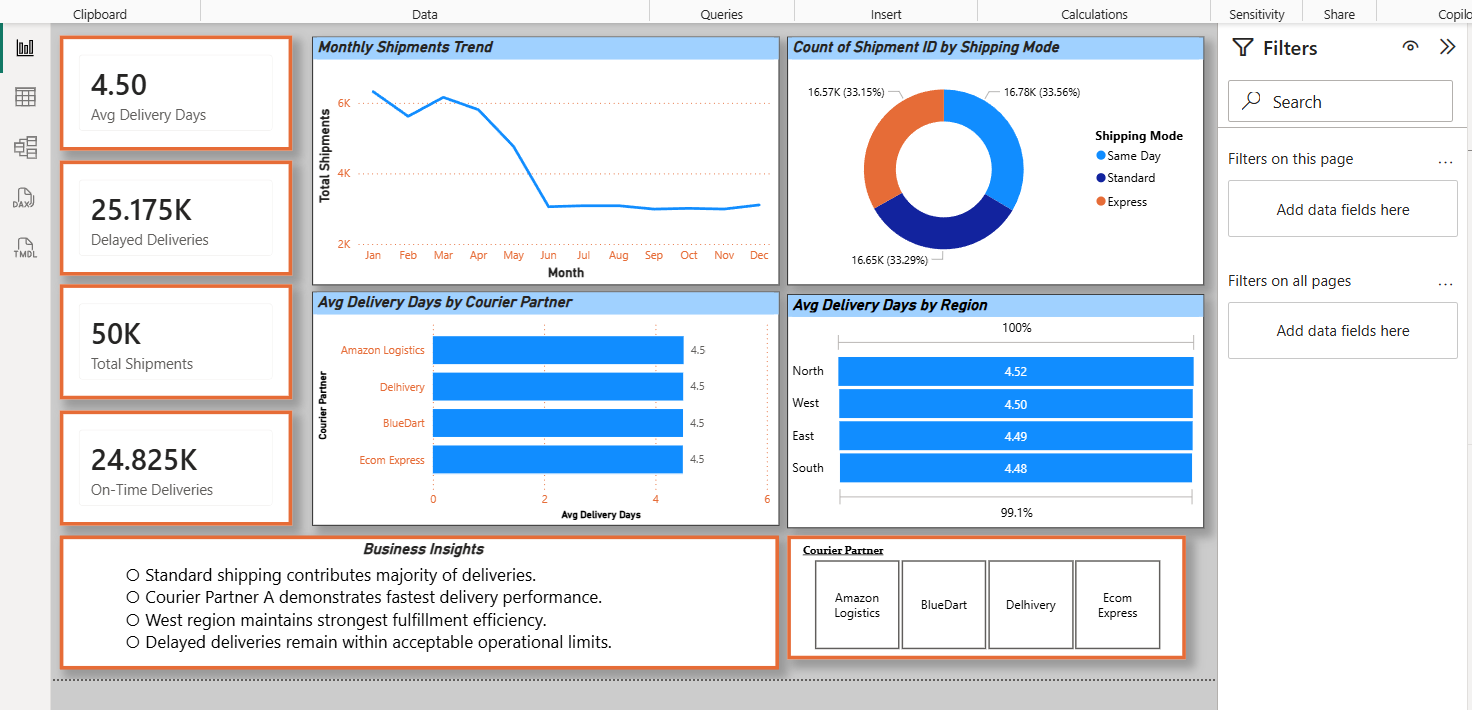

The dashboard page shown, as its layout file describes it:
{"tool":"powerbi","page":{"name":"LOGISTIC DASHBOARD","canvas":[1280,720],"ordinal":2},"visuals":[{"type":"cardVisual","fields":{"Data":["SHIPPING.Avg Delivery Days"]},"box":[9.6,13.7,255.2,126.2],"z":0},{"type":"cardVisual","fields":{"Data":["SHIPPING.Delayed Deliveries"]},"box":[9.6,150.9,255.2,126.2],"z":1000},{"type":"cardVisual","fields":{"Data":["SHIPPING.Total Shipments"]},"box":[9.6,286.8,255.2,126.2],"z":2000},{"type":"cardVisual","fields":{"Data":["SHIPPING.On-Time Deliveries"]},"box":[9.6,425.4,255.2,126.2],"z":3000},{"type":"lineChart","title":"Monthly Shipments Trend","fields":{"Category":["Date Table.Month"],"Y":["SHIPPING.Total Shipments"]},"box":[287.2,14.4,512.4,272.8],"z":4000},{"type":"donutChart","fields":{"Category":["SHIPPING.Shipping Mode"],"Y":["CountNonNull(SHIPPING.Shipment ID)"]},"box":[808.3,14.4,457.6,272.8],"z":5000},{"type":"barChart","fields":{"Y":["SHIPPING.Avg Delivery Days"],"Category":["SHIPPING.Courier Partner"]},"box":[287.2,294.5,512.4,256.9],"z":6000},{"type":"funnel","fields":{"Category":["SALES.Region"],"Y":["SHIPPING.Avg Delivery Days"]},"box":[808.3,297.3,457.6,256.9],"z":7000},{"type":"textbox","title":"Business Insights","box":[10.1,562.9,789.5,147.2],"z":8000},{"type":"slicer","fields":{"Values":["SHIPPING.Courier Partner"]},"box":[808.3,562.9,437.3,135.7],"z":9000}]}

Visuals, with their boxes on the page's 1280x720 design canvas (x1, y1, x2, y2). These are canvas units, not pixel positions in the 1472x710 screenshot, which may show the page scaled, cropped or inside an application window:
cardVisual - SHIPPING.Avg Delivery Days: bbox=[10, 14, 265, 140]
cardVisual - SHIPPING.Delayed Deliveries: bbox=[10, 151, 265, 277]
cardVisual - SHIPPING.Total Shipments: bbox=[10, 287, 265, 413]
cardVisual - SHIPPING.On-Time Deliveries: bbox=[10, 425, 265, 552]
"Monthly Shipments Trend" lineChart: bbox=[287, 14, 800, 287]
donutChart - SHIPPING.Shipping Mode x CountNonNull(SHIPPING.Shipment ID): bbox=[808, 14, 1266, 287]
barChart - SHIPPING.Avg Delivery Days x SHIPPING.Courier Partner: bbox=[287, 294, 800, 551]
funnel - SALES.Region x SHIPPING.Avg Delivery Days: bbox=[808, 297, 1266, 554]
"Business Insights" textbox: bbox=[10, 563, 800, 710]
slicer - SHIPPING.Courier Partner: bbox=[808, 563, 1246, 699]
